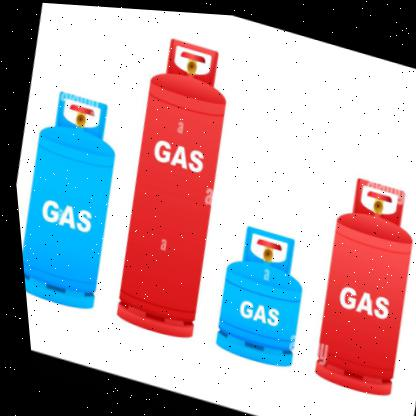gas-tank: (80, 19, 261, 350), (5, 68, 146, 327), (282, 150, 415, 406), (195, 208, 321, 374)
